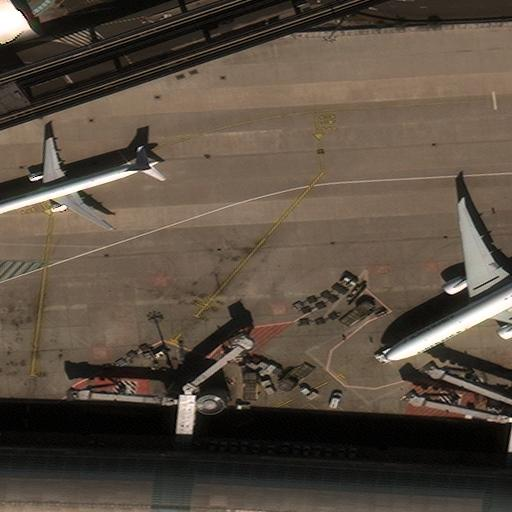Large Civil Transport: (385, 202, 511, 358)
Medium Civil Transport: (0, 139, 157, 229)
